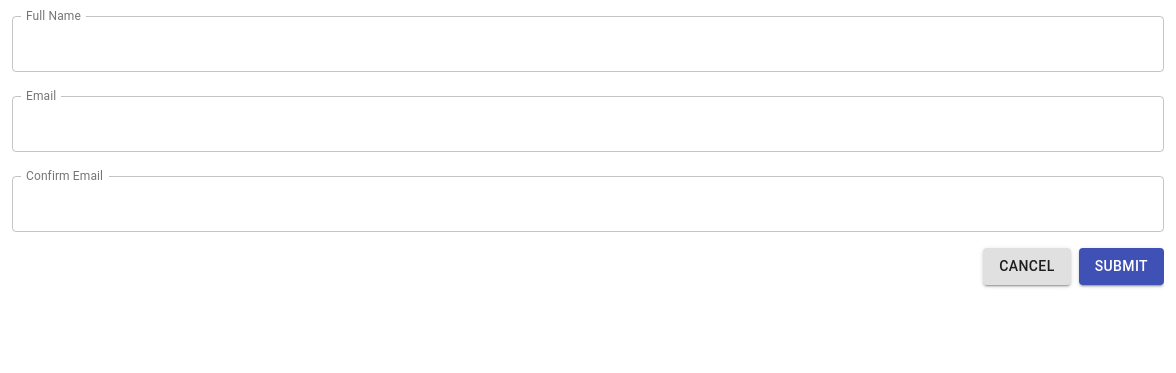
testing correct validation messages are shown and submit is not called › check error is shown when email is not correctly formatted
The image size is (1176, 373).
Expected: the text "Must be a valid email" is not shown
Type "notAnEmail.com" into the field labelled "Email".
click(588, 124); type("notAnEmail.com")  # box 12,96 -> 1164,152
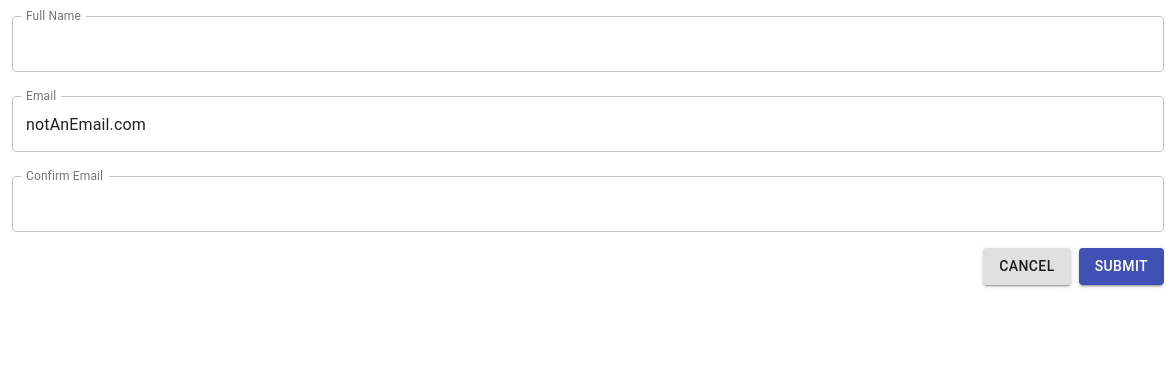
Click the button "Submit".
click(1121, 266)  # box 1079,248 -> 1164,284
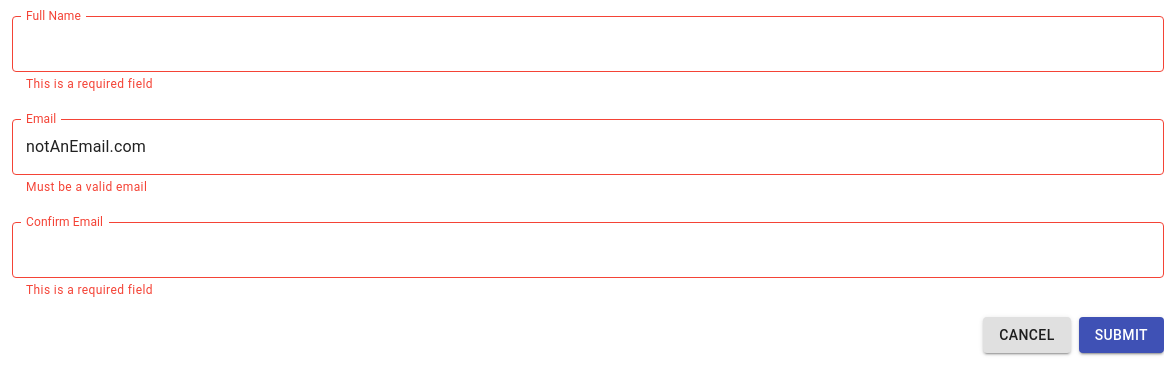
Result: the text "Must be a valid email" is shown at 26,180 -> 147,194
